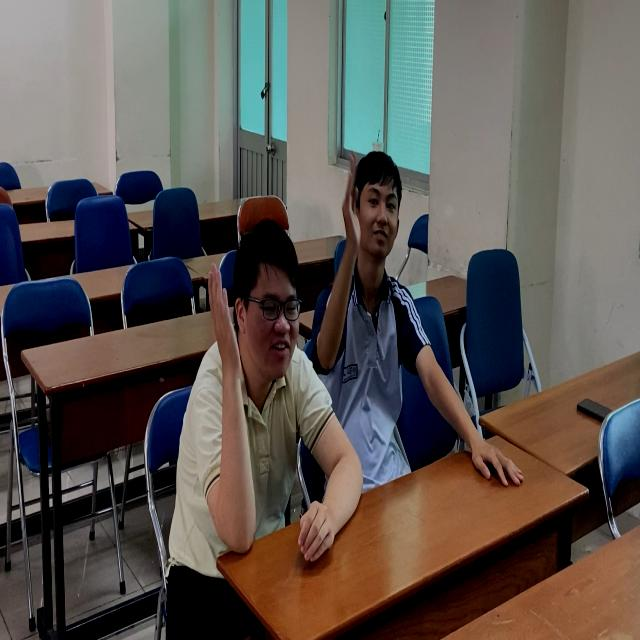raise_hand: (192, 219, 365, 578)
